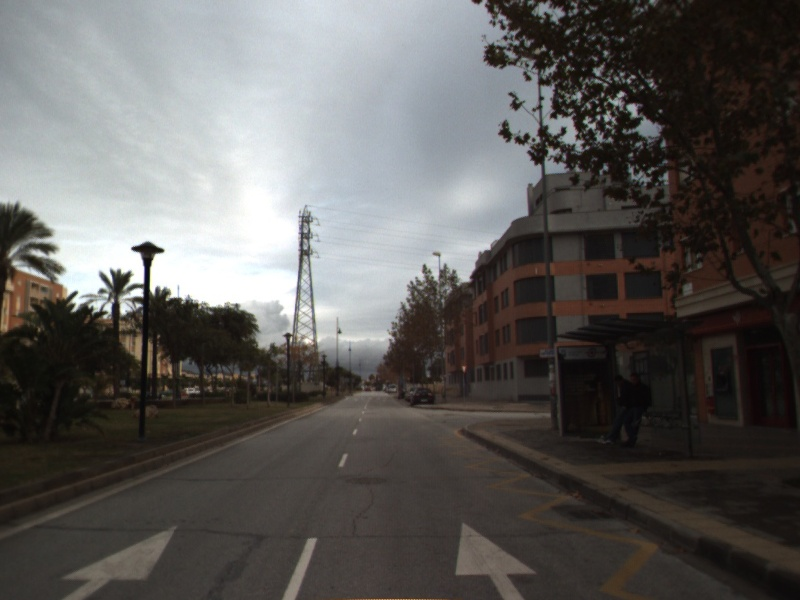STRAIGHT: (54, 521, 182, 600), (451, 519, 542, 600)
